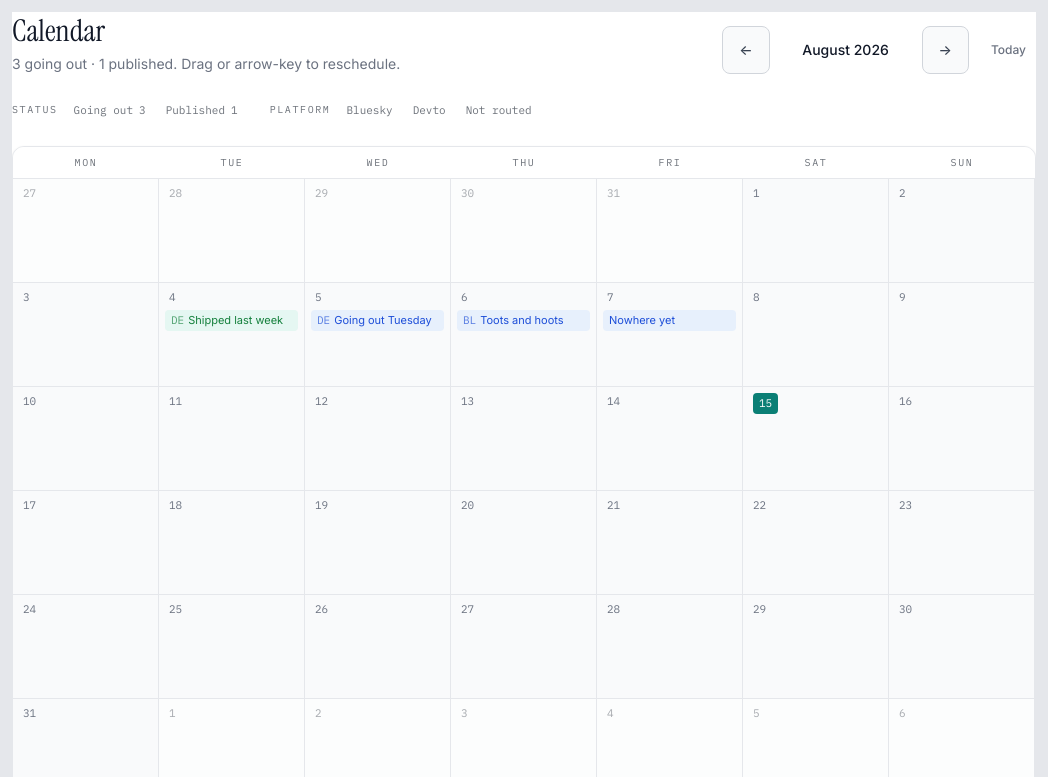
Test case: filtering › explains an empty grid that the filter caused
Expected: the link "Toots and hoots" is shown, [457,310,590,331]
Step 1. Click the button "Bluesky" → [370, 110], box [338,98,401,122]
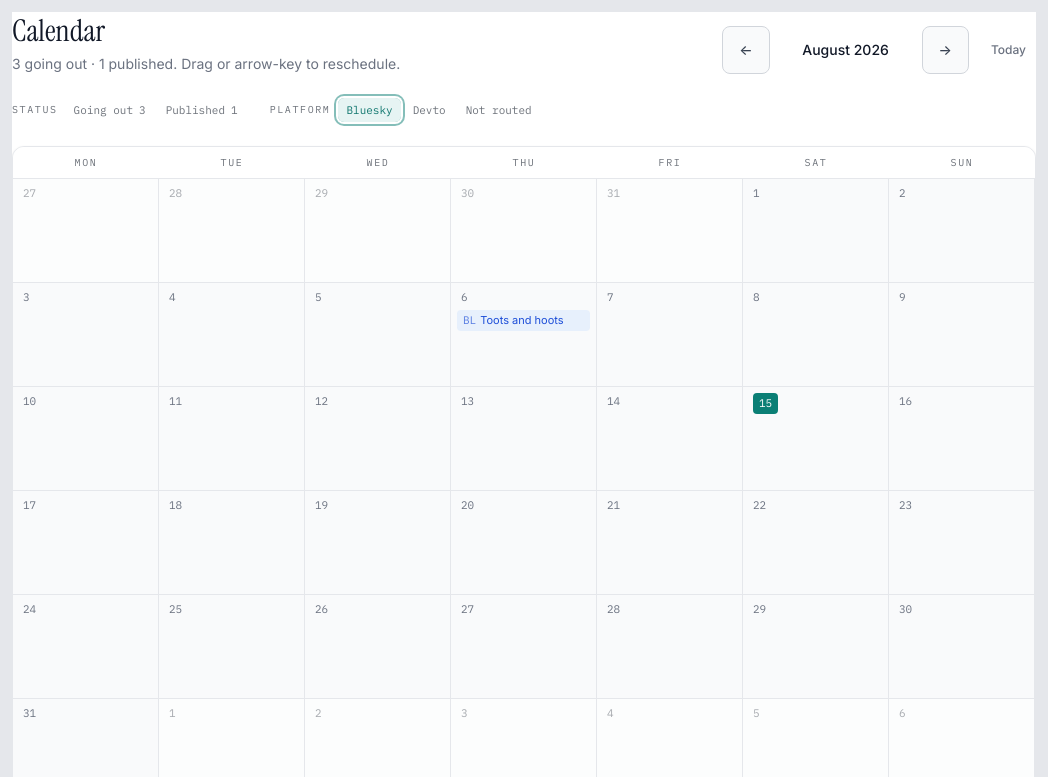
Step 2. Click the button "Published1" → [202, 110], box [158,98,246,122]
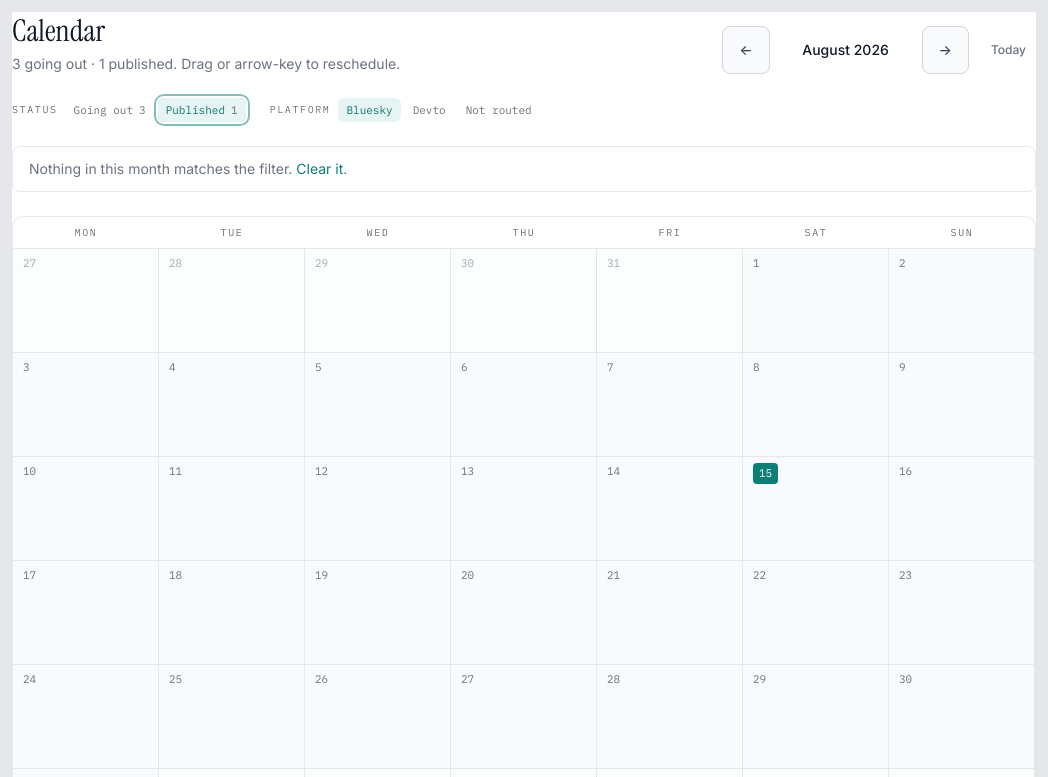
Expected: the text "Nothing in this month matches the filter. Clear it ." is shown, [12,146,1036,192]
Step 3. Click the button "Clear it" → [320, 169], box [296,159,343,179]
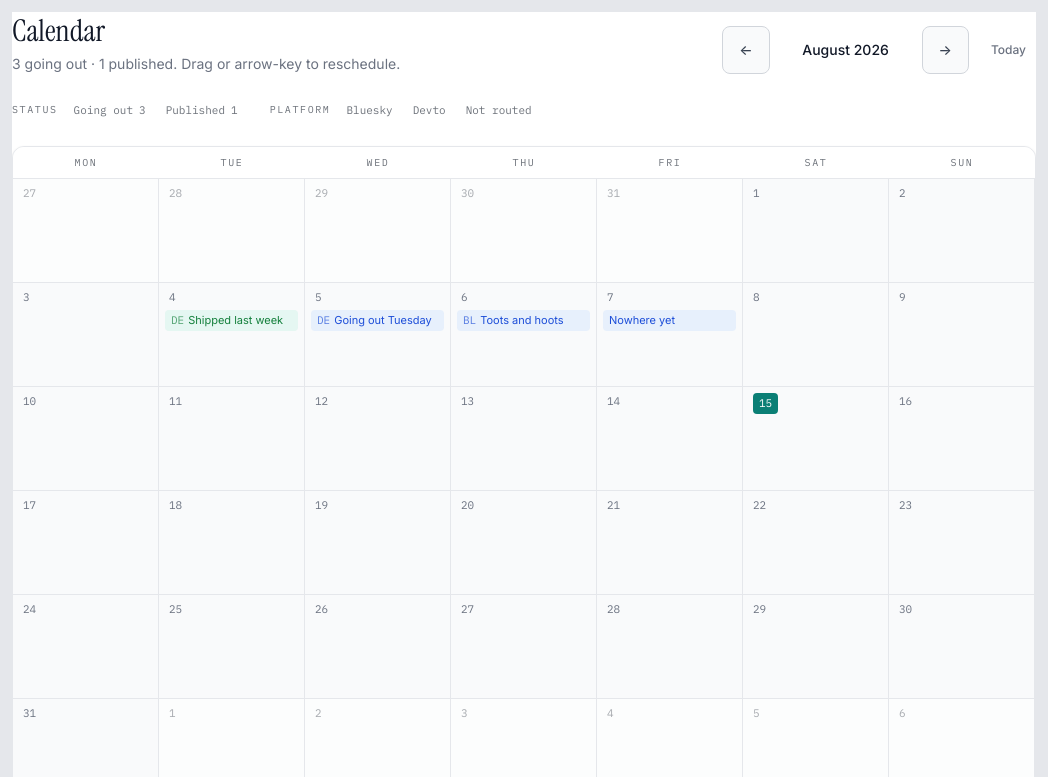
Expected: the link "Going out Tuesday" is shown, [311,310,444,331]
